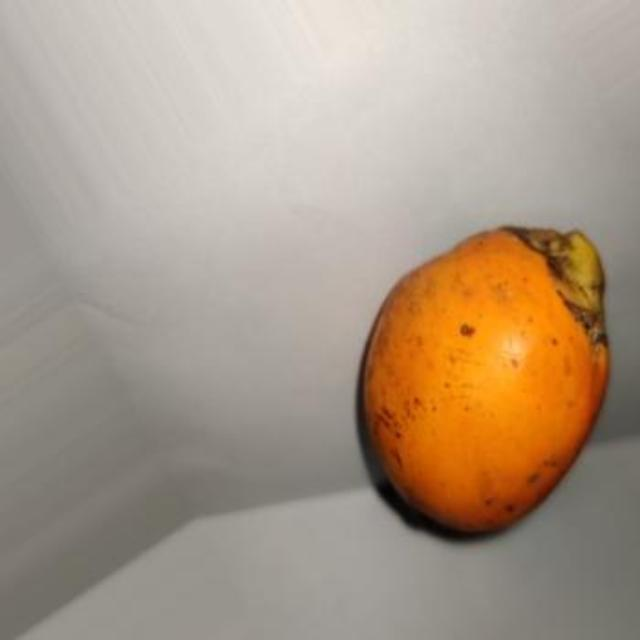good: (358, 229, 611, 538)
